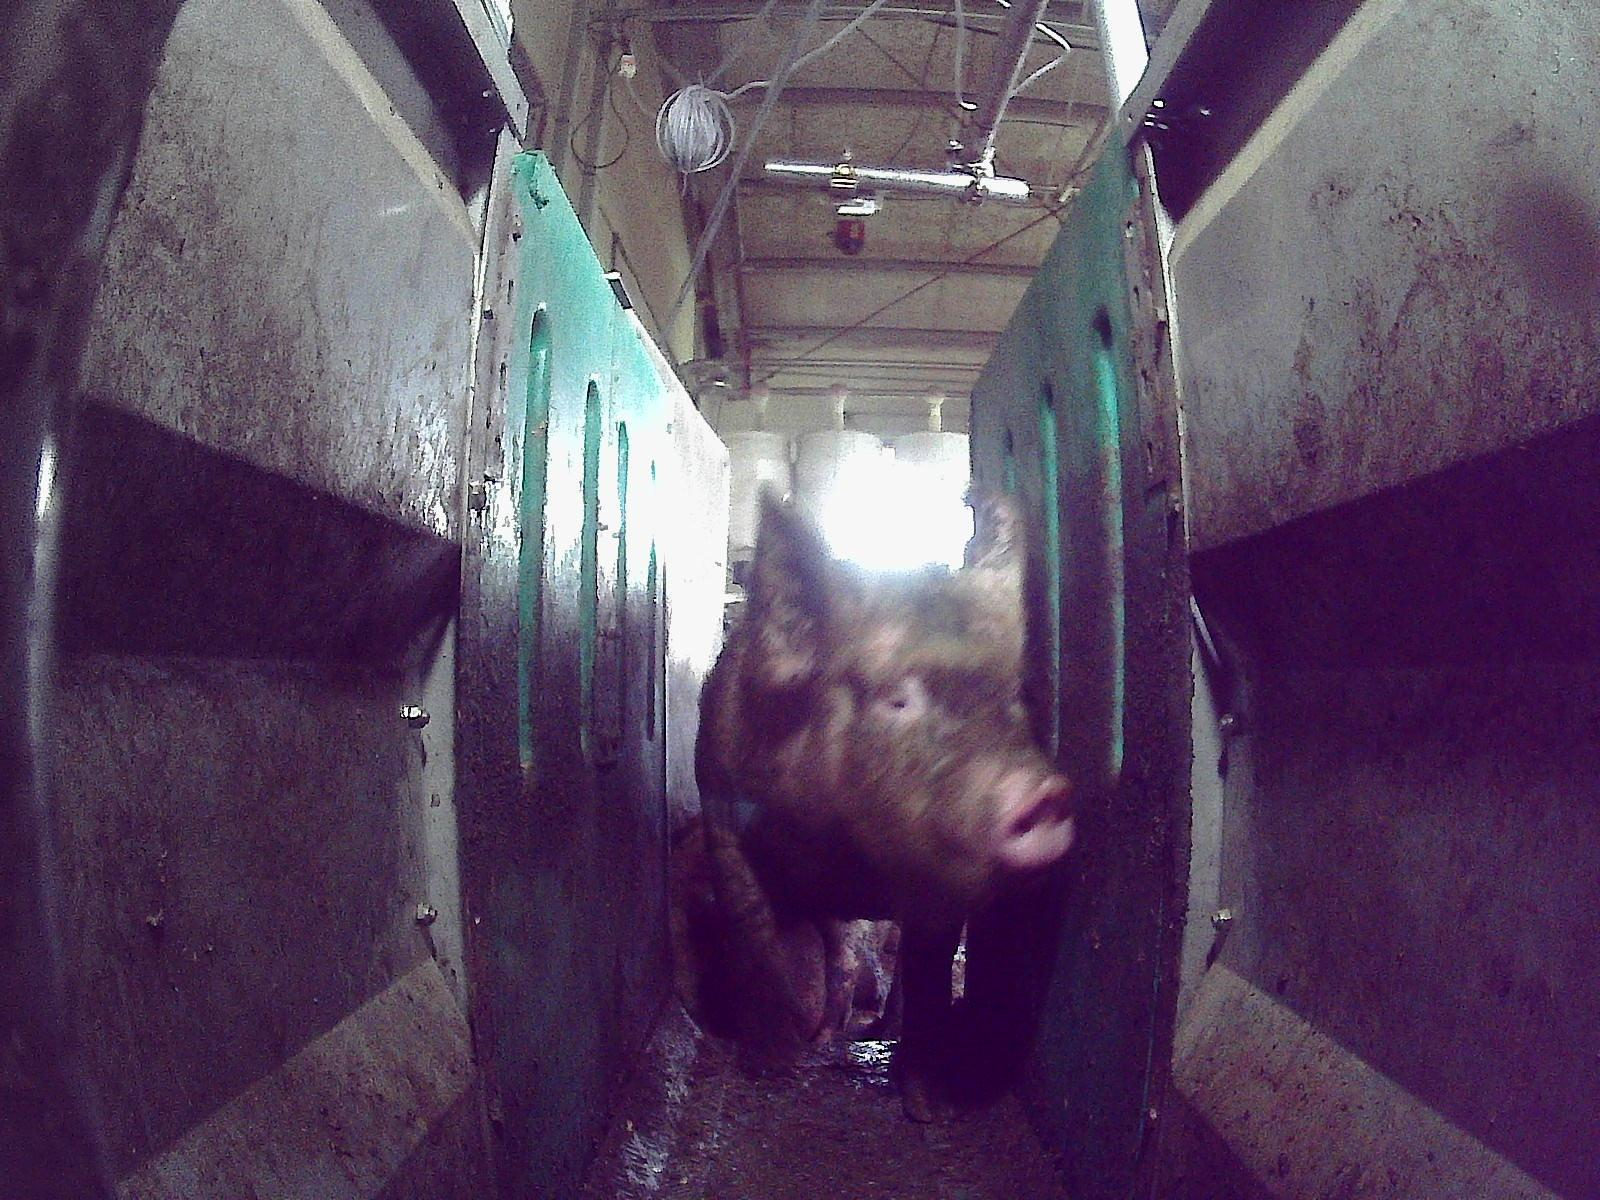Face: (795, 566, 1075, 907)
